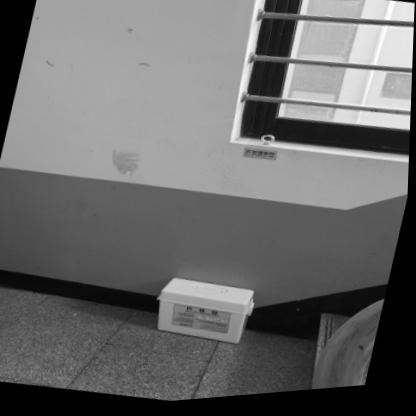DDL: (153, 274, 260, 356)
